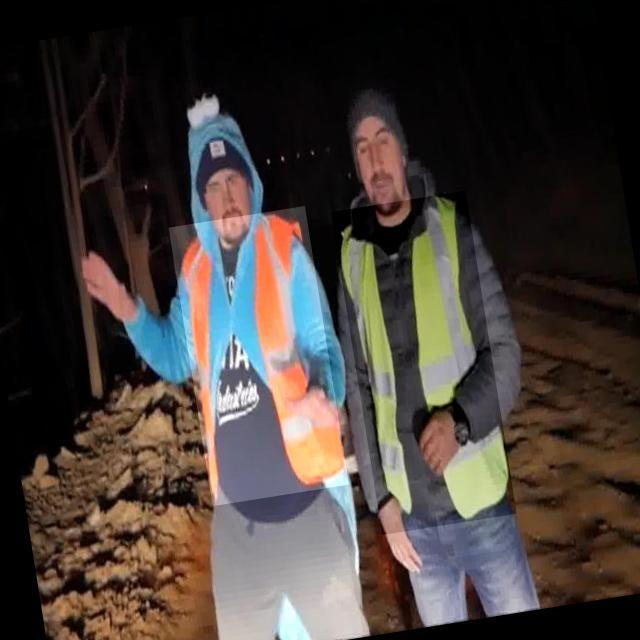Person: (54, 65, 333, 640), (331, 60, 558, 640)
Safety Vest: (332, 191, 517, 536), (169, 206, 349, 506)
bare-arms: (75, 238, 144, 328), (366, 490, 432, 582), (413, 388, 473, 480), (273, 373, 352, 441)
no-helmet: (174, 90, 263, 184), (337, 78, 411, 143)
